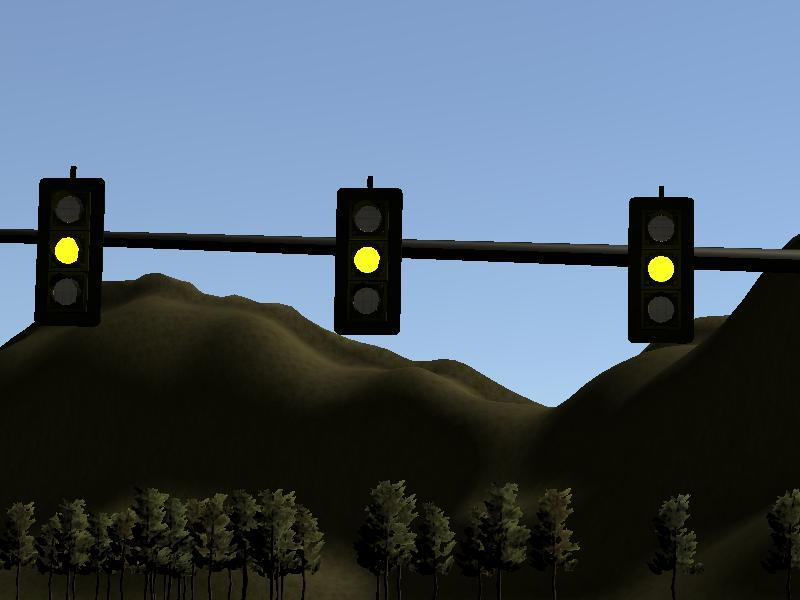Yellow: (334, 188, 402, 335), (627, 196, 695, 343), (37, 179, 104, 326)
